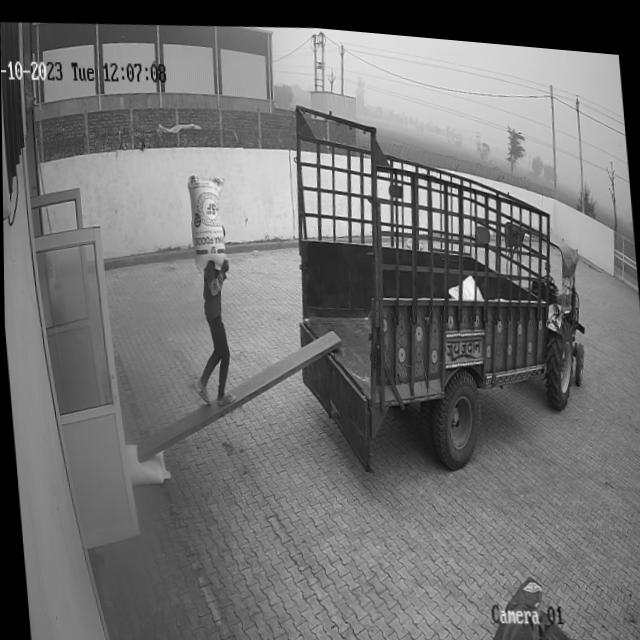sack: (186, 168, 230, 270), (122, 437, 168, 484)
